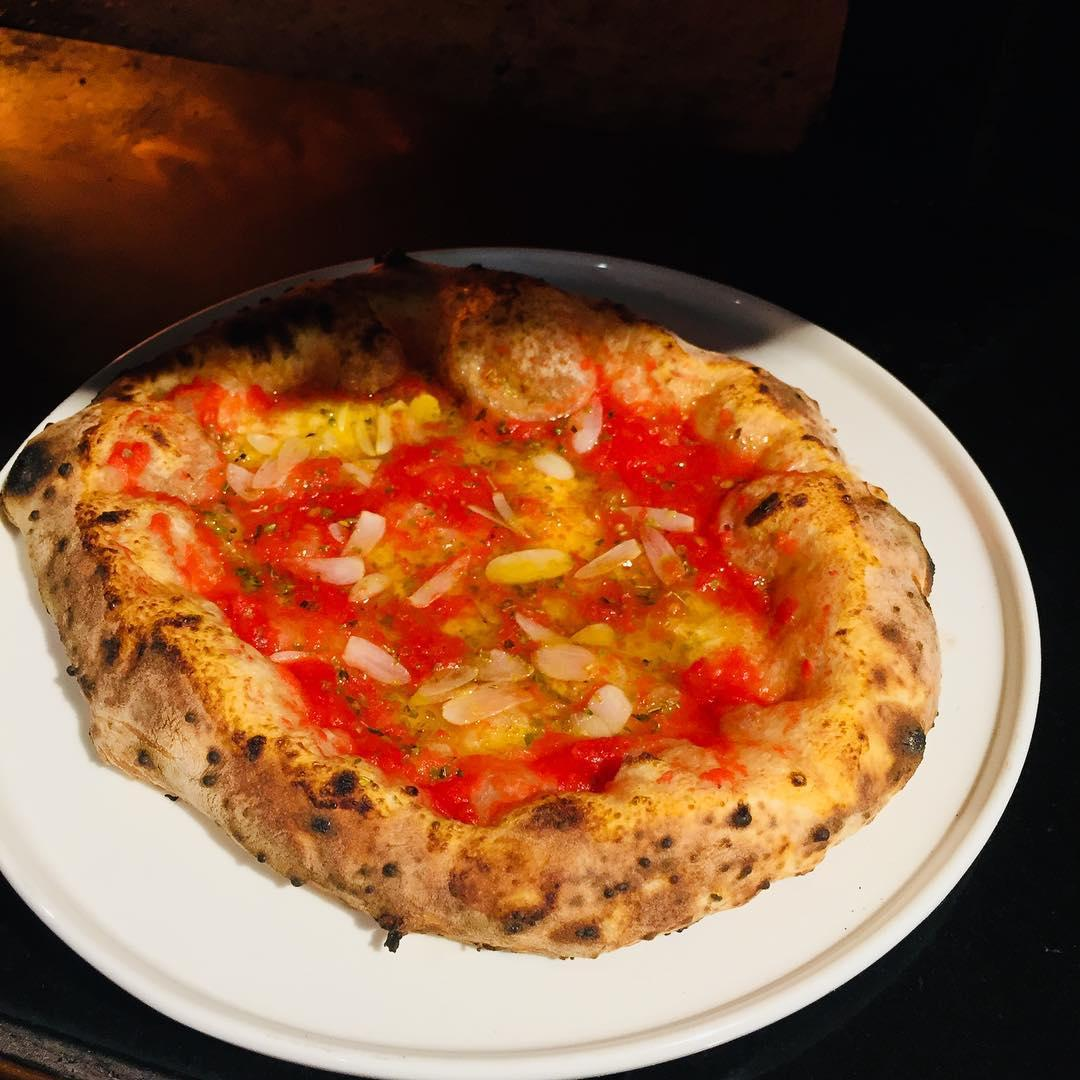Pizza: (10, 268, 933, 955)
